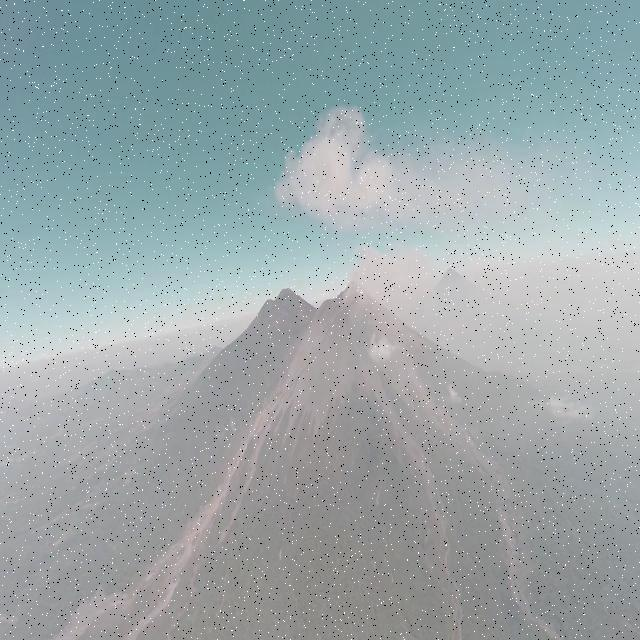Plume: (272, 97, 518, 240), (340, 240, 442, 356)
Summit: (334, 272, 381, 300)
